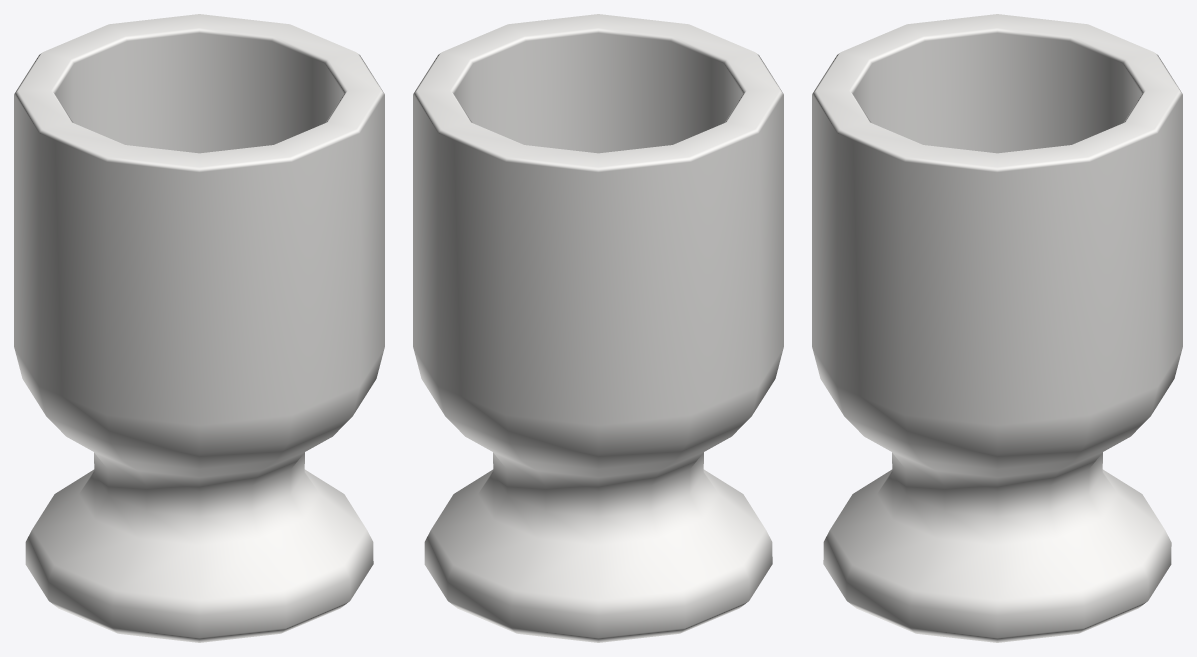
The model's file is Goblet_1.glb.
3 renders of one model, left to right at view 1: azimuth 30°, elevation 25°; view 2: azimuth 150°, elevation 25°; view 3: azimuth 270°, elevation 25°, orthographic.
Visible parts, largest first — view 1: Goblet_1; view 2: Goblet_1; view 3: Goblet_1.
Boxes of the visible parts, x1=… form: Goblet_1: x1=14, y1=14, x2=384, y2=642; Goblet_1: x1=413, y1=14, x2=783, y2=642; Goblet_1: x1=812, y1=14, x2=1182, y2=642.
Size of the model in its own units: 0.1225 by 0.1763 by 0.1225.
1 material, 1 textured.
